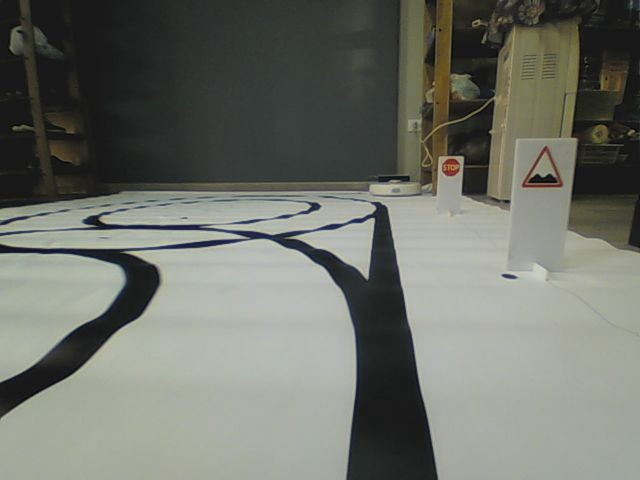Stop: (441, 157, 462, 176)
